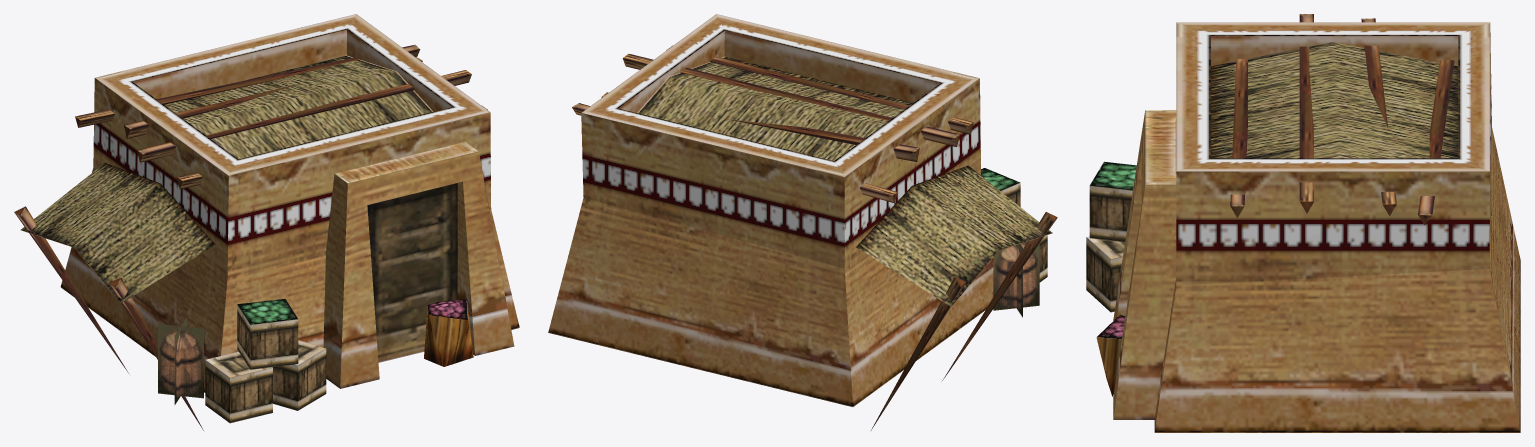
Rendered from idle.glb.
The picture shows the model from 3 angles, left to right: view 1: azimuth 30°, elevation 25°; view 2: azimuth 150°, elevation 25°; view 3: azimuth 270°, elevation 25°; orthographic projection. The views are drawn at different scales.
Visible parts, largest first — view 1: MeshRoot; view 2: MeshRoot; view 3: MeshRoot.
Boxes of the visible parts, left/top/right/bottom form: MeshRoot: left=14, top=14, right=519, bottom=430; MeshRoot: left=548, top=14, right=1057, bottom=430; MeshRoot: left=1086, top=14, right=1520, bottom=432.
Size of the model in its own units: 4.94 by 3.38 by 4.03.
Materials: 6 (6 with a texture image).
